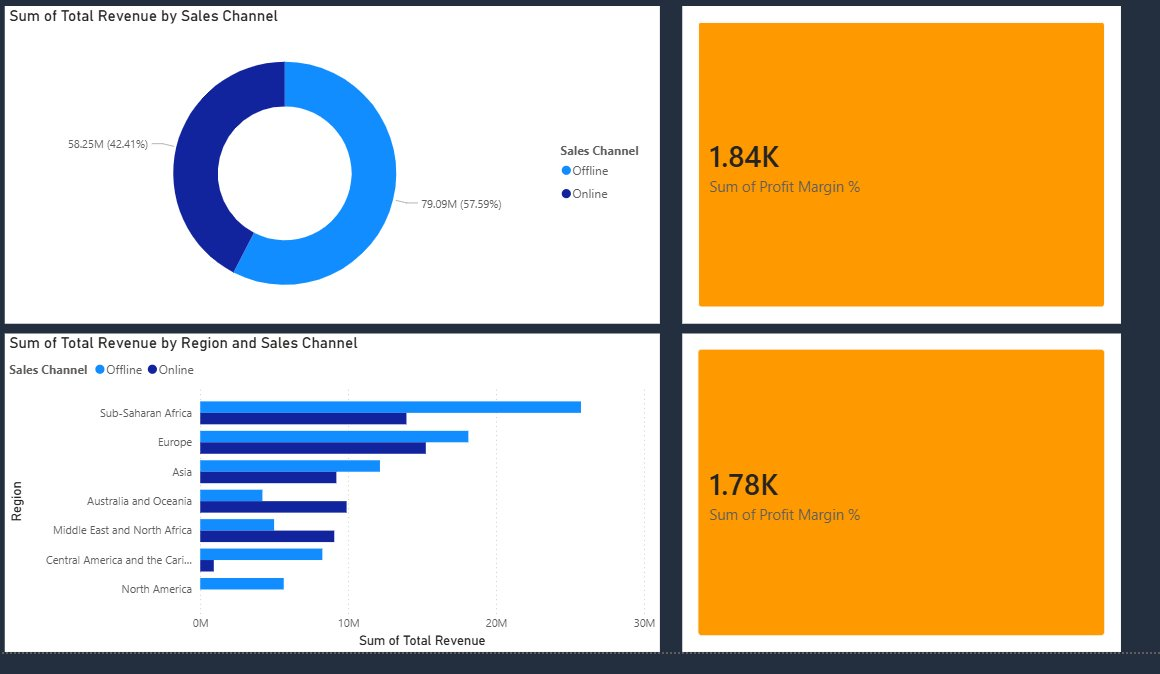

This screenshot's page, from the dashboard's own definition file:
{"tool":"powerbi","page":{"name":"Sales Channel Comparision","canvas":[1280,720],"ordinal":6},"visuals":[{"type":"donutChart","fields":{"Category":["Amazon_Sales_Clean.Sales Channel"],"Y":["Sum(Amazon_Sales_Clean.Total Revenue)"]},"box":[9.6,11,719,348.5],"z":0},{"type":"clusteredBarChart","fields":{"Category":["Amazon_Sales_Clean.Region"],"Y":["Sum(Amazon_Sales_Clean.Total Revenue)"],"Series":["Amazon_Sales_Clean.Sales Channel"]},"box":[9.6,370.5,719,349.9],"z":1000},{"type":"cardVisual","fields":{"Data":["Sum(Amazon_Sales_Clean.Profit Margin %)"]},"box":[753.3,11,481.6,348.5],"z":2000},{"type":"cardVisual","fields":{"Data":["Sum(Amazon_Sales_Clean.Profit Margin %)"]},"box":[753.3,370.5,481.6,349.9],"z":3000}]}

Visuals, with their boxes on the page's 1280x720 design canvas (x1, y1, x2, y2). These are canvas units, not pixel positions in the 1160x674 screenshot, which may show the page scaled, cropped or inside an application window:
donutChart - Amazon_Sales_Clean.Sales Channel x Sum(Amazon_Sales_Clean.Total Revenue): 10:11:729:360
clusteredBarChart - Amazon_Sales_Clean.Region x Sum(Amazon_Sales_Clean.Total Revenue): 10:370:729:720
cardVisual - Sum(Amazon_Sales_Clean.Profit Margin %): 753:11:1235:360
cardVisual - Sum(Amazon_Sales_Clean.Profit Margin %): 753:370:1235:720
